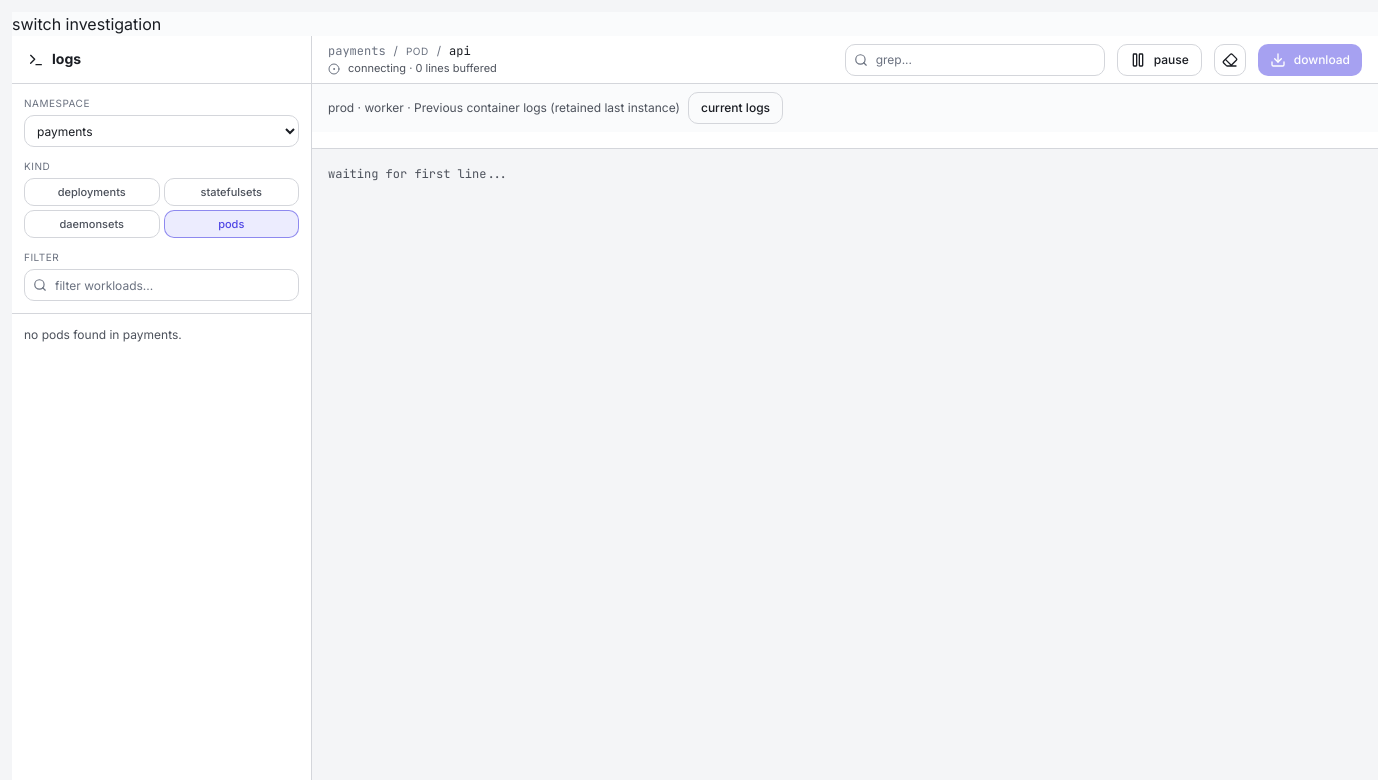
Test: LogsTab deep links › switches URL context and container without accepting old channel events
What coordinates should you click on to do the following:
click the link "switch investigation"
I would click on:
 (87, 24)
Its box is [12,14,161,34].
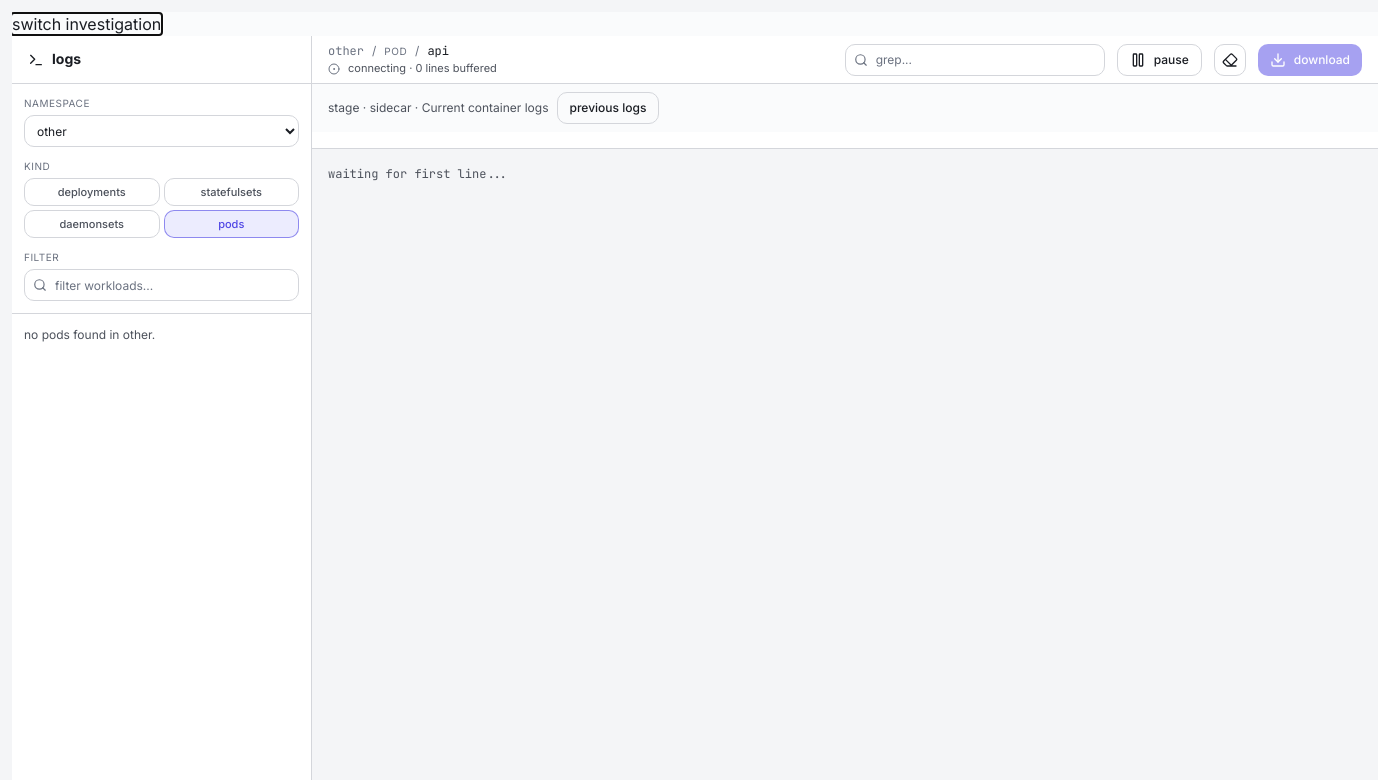
Check: the text "Previous container logs" is gone
